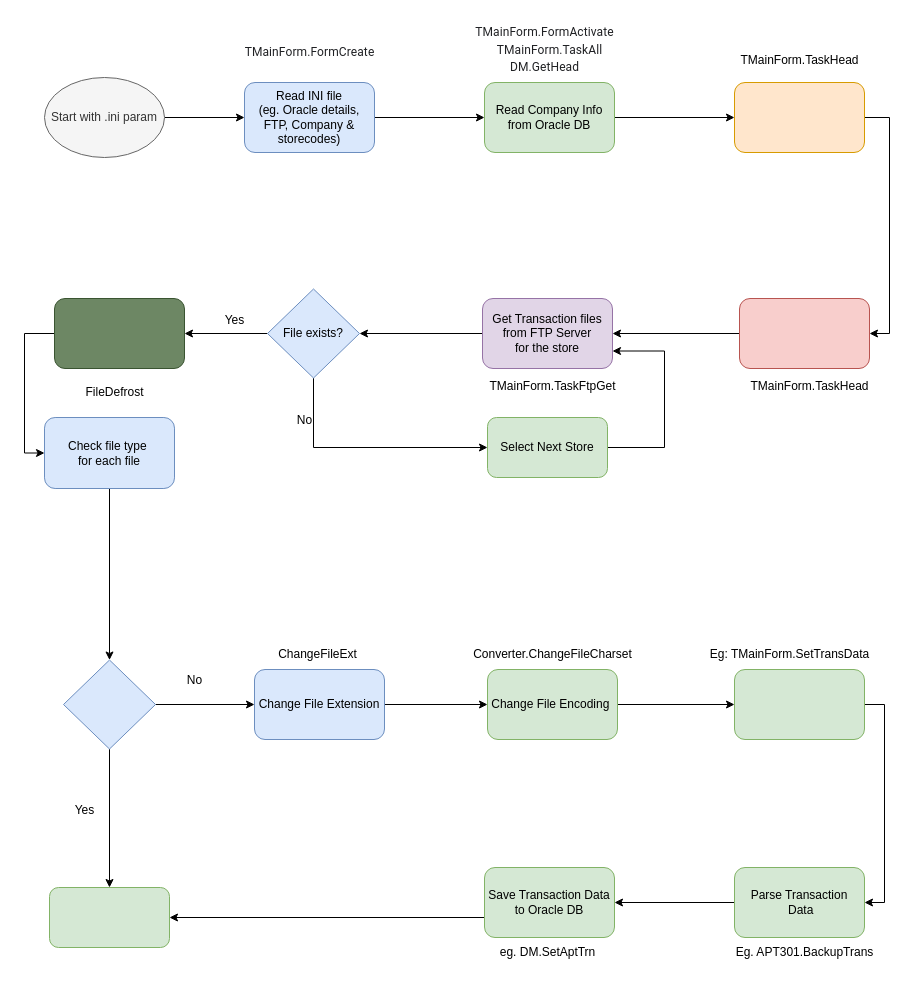
Image size: 915x984. Some labels were removed from this diagram. The shapes that lost their labels are listed below. From the top down, each one's box as (x1, y1, x2, y2) in pixels, then its label:
(734, 82, 864, 152): Company Output Processing
(54, 298, 184, 368): Unzip the files
(738, 298, 870, 368): Get Store Information From Oracle (Eg. Store master, gmInfo, etc)
(62, 659, 156, 749): is JNL file
(734, 668, 864, 740): Set Transaction data
(48, 886, 170, 948): Backup file
